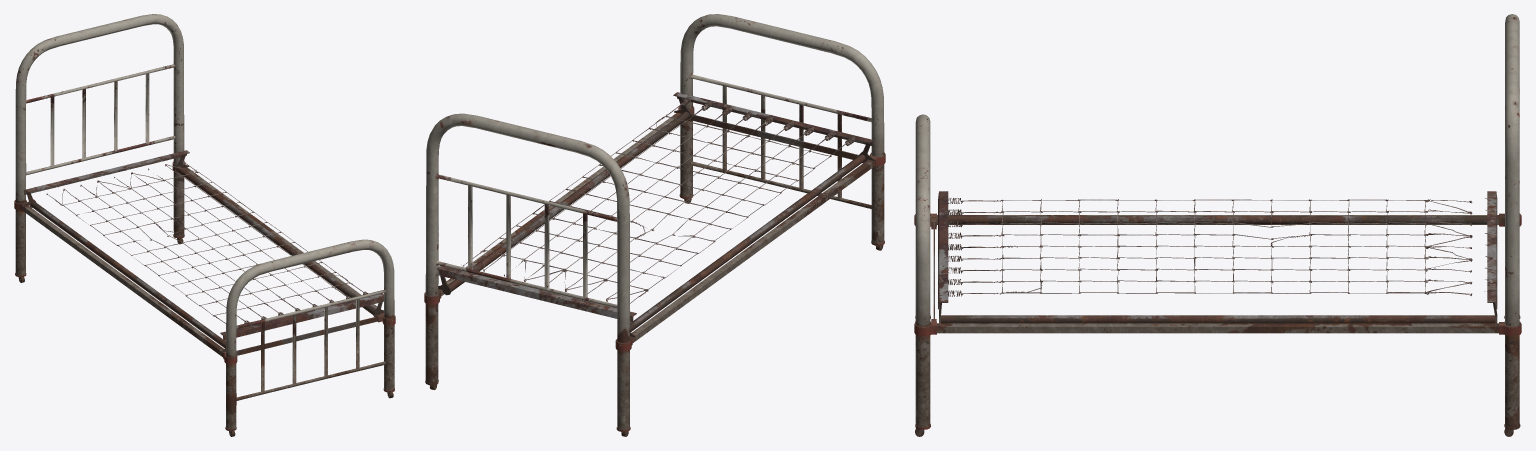
The model's file is bed-01.glb.
3 renders of one model, left to right at view 1: azimuth 30°, elevation 25°; view 2: azimuth 150°, elevation 25°; view 3: azimuth 270°, elevation 25°, orthographic. The views are drawn at different scales.
Visible parts, largest first — view 1: old_bed_frame; view 2: old_bed_frame; view 3: old_bed_frame.
Part boxes in pixels (x1,y1,x2,y2): old_bed_frame: (14,14,395,436); old_bed_frame: (424,14,885,436); old_bed_frame: (914,14,1521,436).
Size of the model in its own units: 0.9047 by 1.2 by 2.
Materials: 1 (1 with a texture image).
